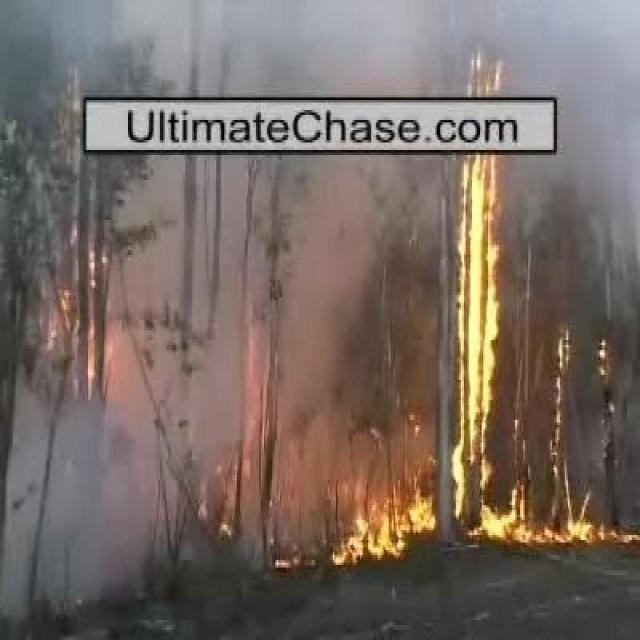Fire: (455, 158, 495, 518), (329, 501, 436, 564), (478, 496, 594, 544)
